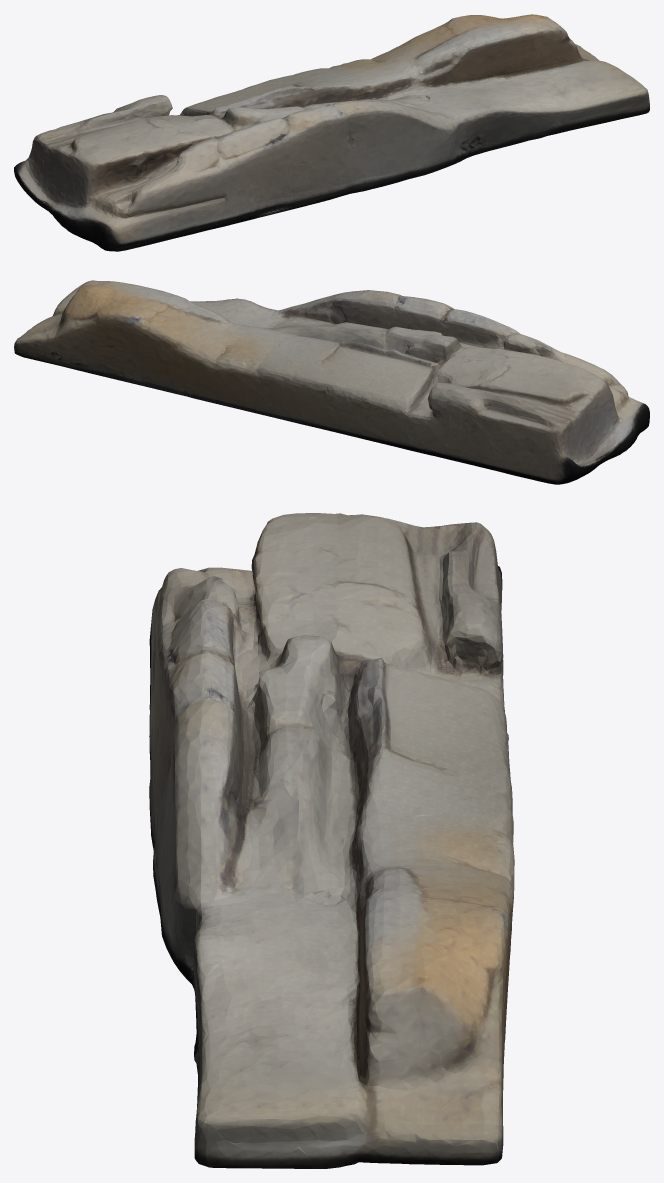
The model's file is sample.glb.
3 views of the same model, one above another, from view 1: azimuth 30°, elevation 25°; view 2: azimuth 150°, elevation 25°; view 3: azimuth 270°, elevation 25° (orthographic). The views are drawn at different scales.
Visible parts, largest first — view 1: world; view 2: world; view 3: world.
Part boxes in pixels (box(x1,y1,x2,y2)): world: box(14, 14, 649, 251); world: box(14, 280, 649, 484); world: box(149, 513, 514, 1168).
Size of the model in its own units: 1 by 0.1434 by 0.2816.
Materials: 1 (1 with a texture image).
